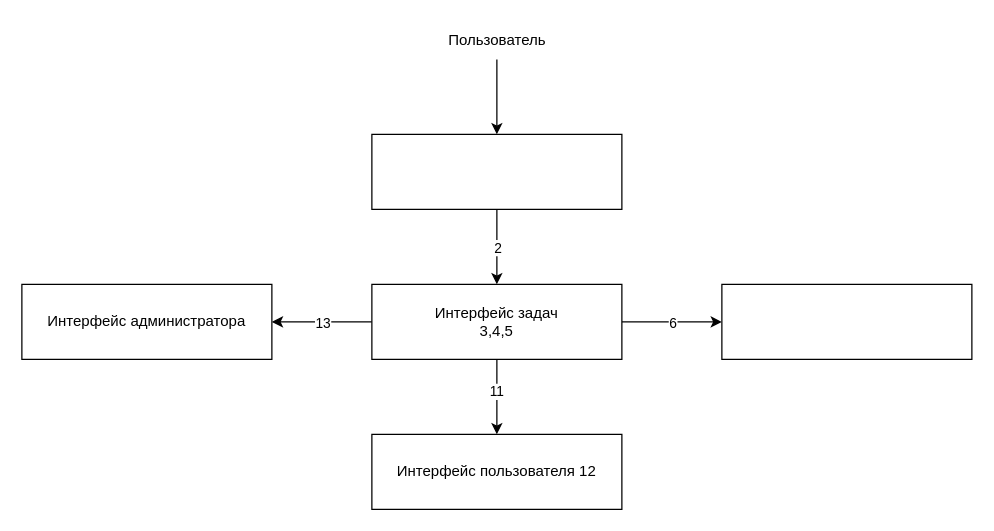
This 994x531 diagram has some shape labels left out. Each missing label, with the centre of its shape:
"Интерфейс проектов 7,8,9,10" belongs at pixel 846 321.
"Страница регистрации/авторизации 1" belongs at pixel 496 171.
